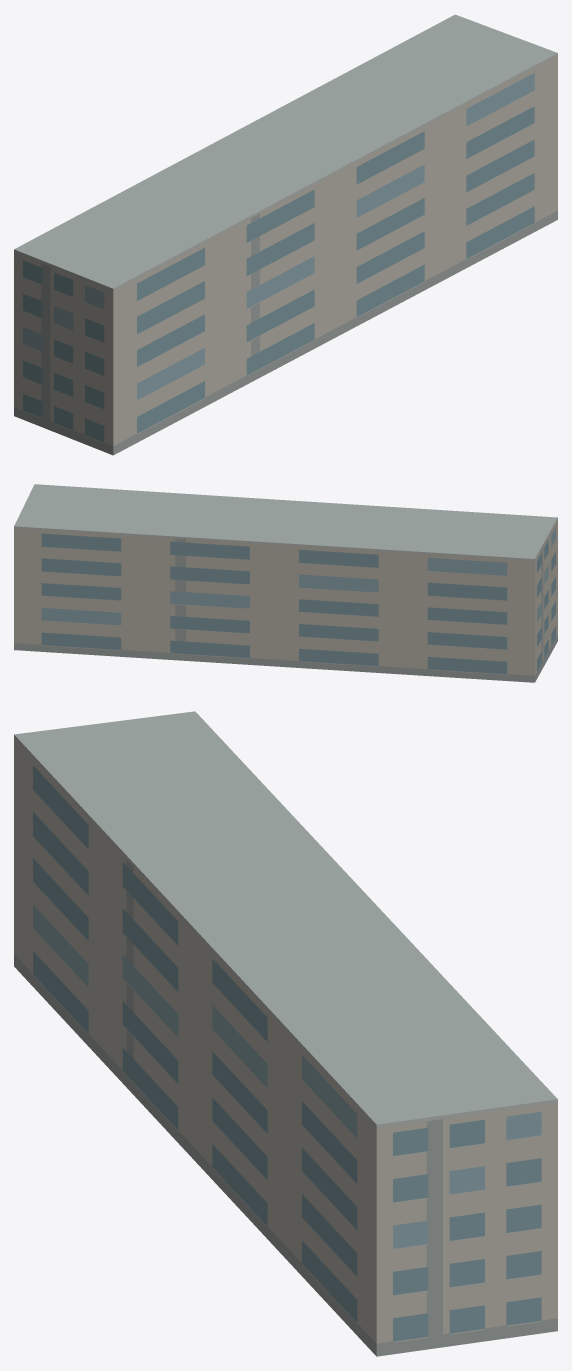
The model's file is residential-4c16cb41-f110-47f4-9743-d8d845581d6a.glb.
The picture shows the model from 3 angles, top to bottom: view 1: azimuth 30°, elevation 25°; view 2: azimuth 150°, elevation 25°; view 3: azimuth 270°, elevation 25°; orthographic projection. The views are drawn at different scales.
Visible parts, largest first — view 1: residential-4c16cb41-f110-47f4-9743-d8d845581d6a.tmp; view 2: residential-4c16cb41-f110-47f4-9743-d8d845581d6a.tmp; view 3: residential-4c16cb41-f110-47f4-9743-d8d845581d6a.tmp.
Part boxes in pixels (x1,y1,x2,y2): residential-4c16cb41-f110-47f4-9743-d8d845581d6a.tmp: (14,14,557,455); residential-4c16cb41-f110-47f4-9743-d8d845581d6a.tmp: (14,484,557,682); residential-4c16cb41-f110-47f4-9743-d8d845581d6a.tmp: (14,711,557,1356).
Size of the model in its own units: 58.3 by 15.25 by 32.42.
